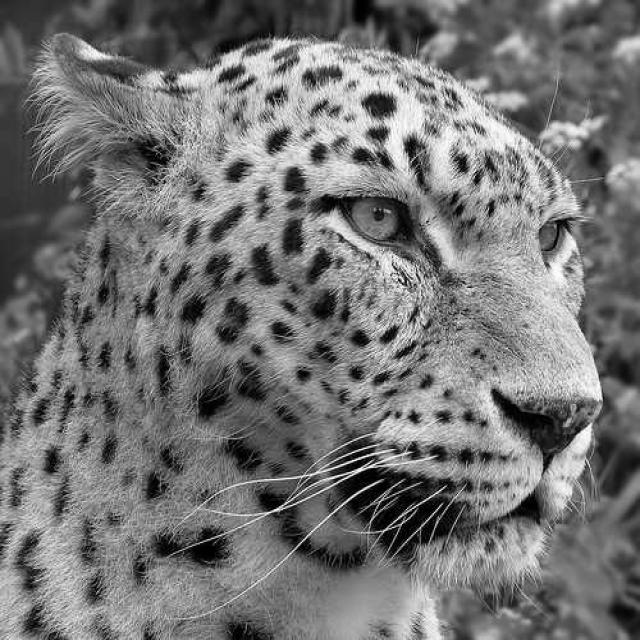Leopard: (0, 29, 604, 638)
